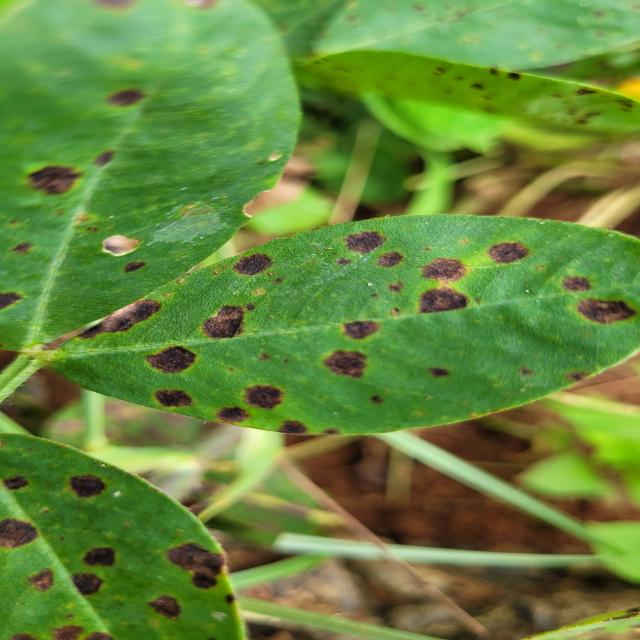Ground nut_tikka leaf spot: (45, 214, 640, 432)
